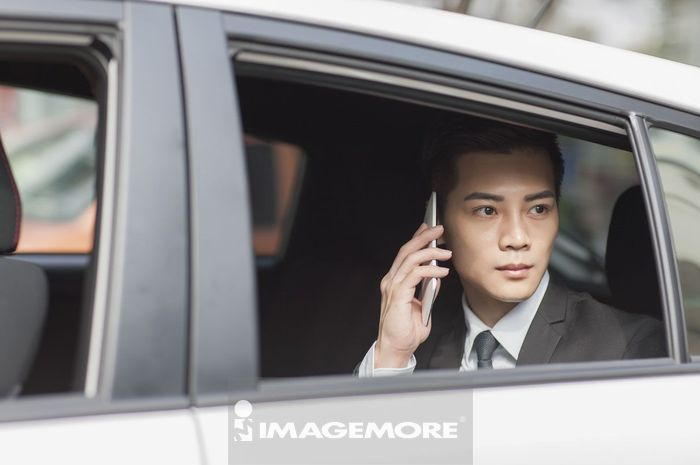phone: (400, 192, 442, 318)
talk: (379, 170, 565, 350)
